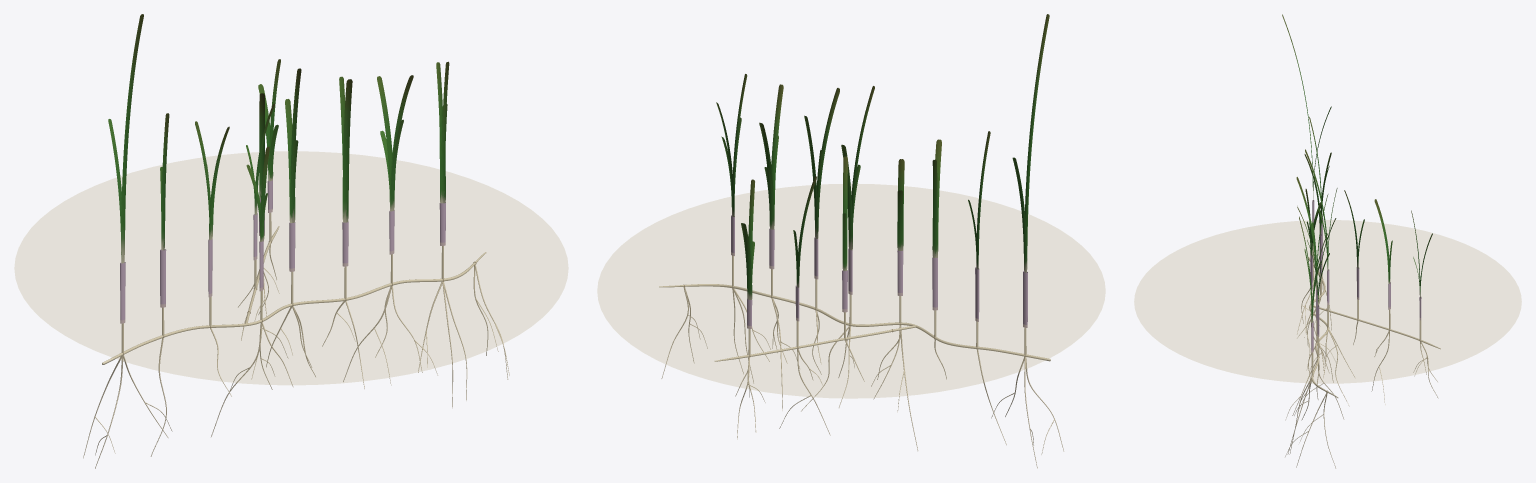
The model's file is cymodocea-rotundata.glb.
3 views of the same model, side by side, from view 1: azimuth 30°, elevation 25°; view 2: azimuth 150°, elevation 25°; view 3: azimuth 270°, elevation 25° (orthographic). The views are drawn at different scales.
Parts seen in each view (by area): view 1: Sediment, Leaves, Roots, LeafSheaths, Rhizome, ErectStems; view 2: Sediment, Leaves, Roots, LeafSheaths, Rhizome, ErectStems; view 3: Sediment, Leaves, Roots, LeafSheaths, Rhizome, ErectStems.
Part boxes in pixels (x1,y1,x2,y2): Sediment: [14, 151, 568, 384]; Leaves: [108, 14, 449, 263]; Roots: [83, 244, 509, 468]; LeafSheaths: [120, 180, 445, 323]; Rhizome: [102, 226, 486, 364]; ErectStems: [121, 212, 443, 352]; Sediment: [597, 184, 1105, 398]; Leaves: [716, 14, 1049, 299]; Roots: [661, 287, 1064, 468]; LeafSheaths: [731, 215, 1027, 328]; Rhizome: [659, 284, 1050, 361]; ErectStems: [732, 255, 1026, 355]; Sediment: [1134, 220, 1521, 383]; Leaves: [1282, 14, 1432, 322]; Roots: [1285, 266, 1438, 468]; LeafSheaths: [1310, 200, 1421, 352]; Rhizome: [1308, 257, 1440, 397]; ErectStems: [1310, 244, 1421, 375].
Bounding box in the file's own units: 0.3087 × 0.2923 × 0.3087.
Materials: 7 (1 with a texture image).
